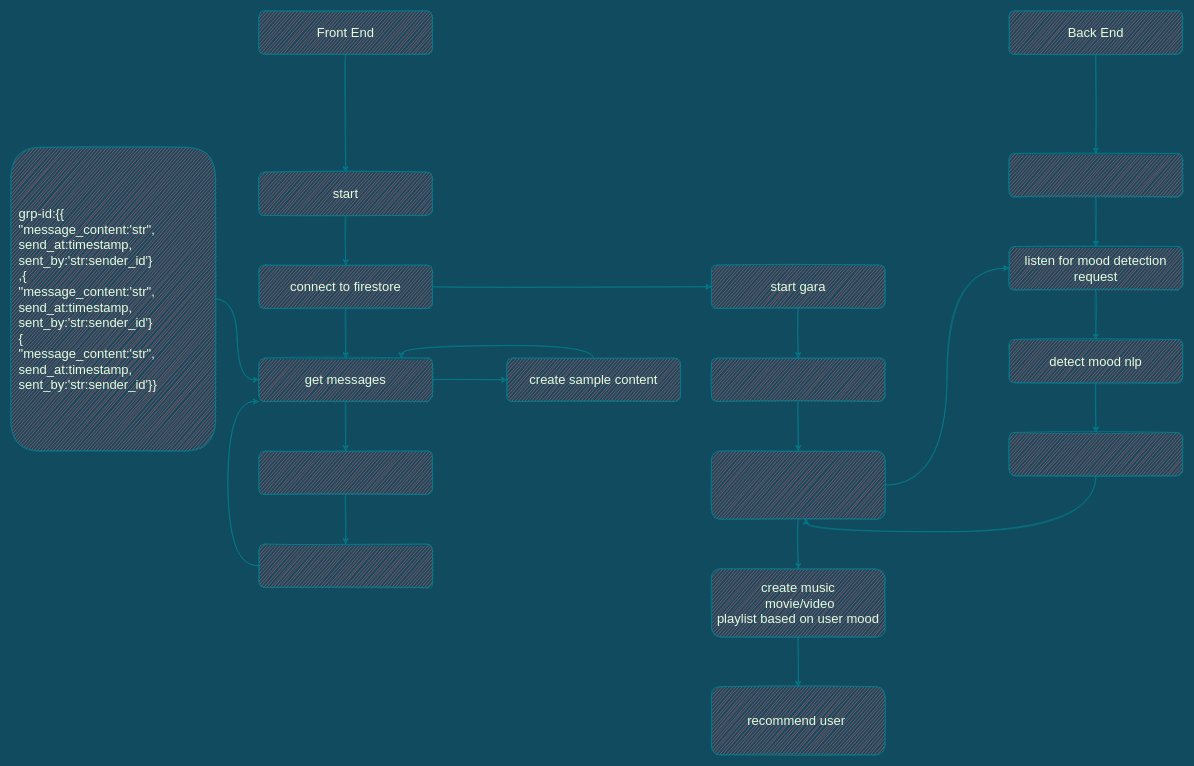
This 1194x766 diagram has some shape labels left out. The shapes that lost their labels are listed below. From the top down, each one's centre as x and y in pixels, then its label:
At point 1095,175: "start fastapi".
At point 798,379: "is messages are > 10".
At point 345,472: "get emssage from user".
At point 1095,454: "send mood data".
At point 798,484: "request mood from backend: content:messages".
At point 345,565: "update firestore".
